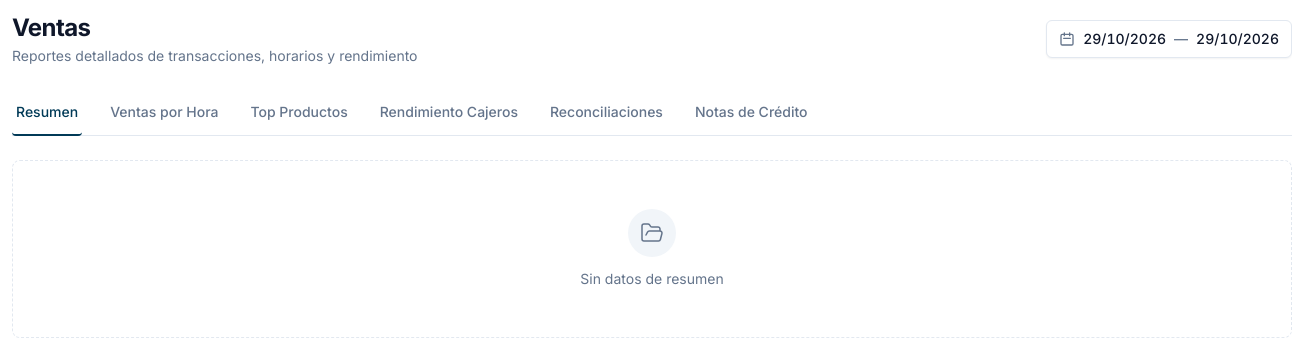
Test case: W2 — SalesPage error states › renders empty state on cashiers tab when error
Click the button "Rendimiento Cajeros".
click(449, 113)  # box [376,90,522,136]
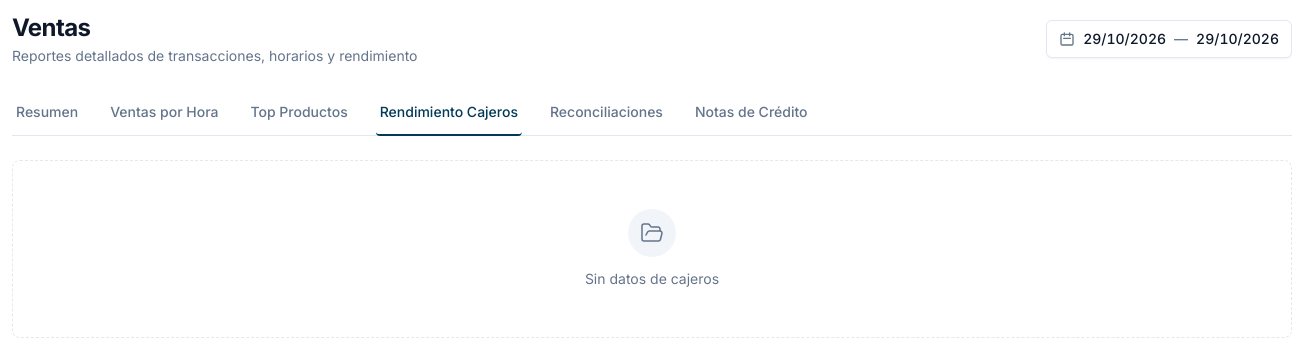
Now the text "Sin datos de cajeros" is shown, box [585,269,719,289]
